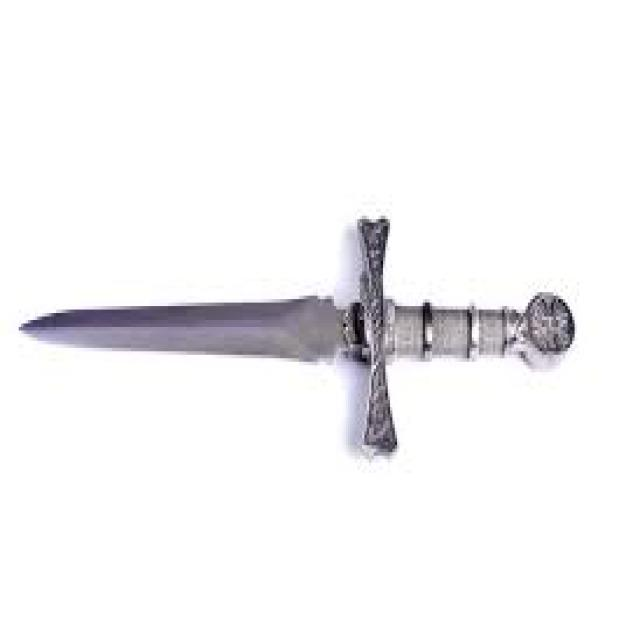Gun: (21, 205, 588, 467)
